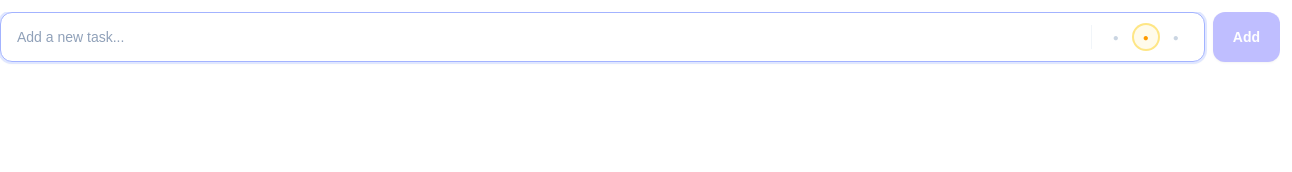
Scenario: TodoInput › Add button becomes enabled when the input has non-whitespace content
Type "Buy milk" into the field with placeholder "Add a new task..." at (550, 37), box [17, 27, 1083, 47]
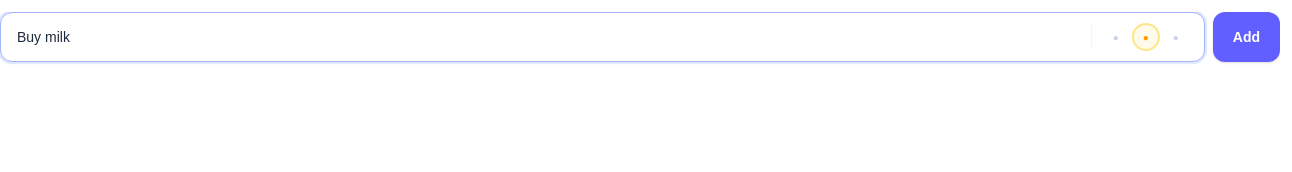
Now the button "Add" is enabled, box [1213, 12, 1280, 62]
